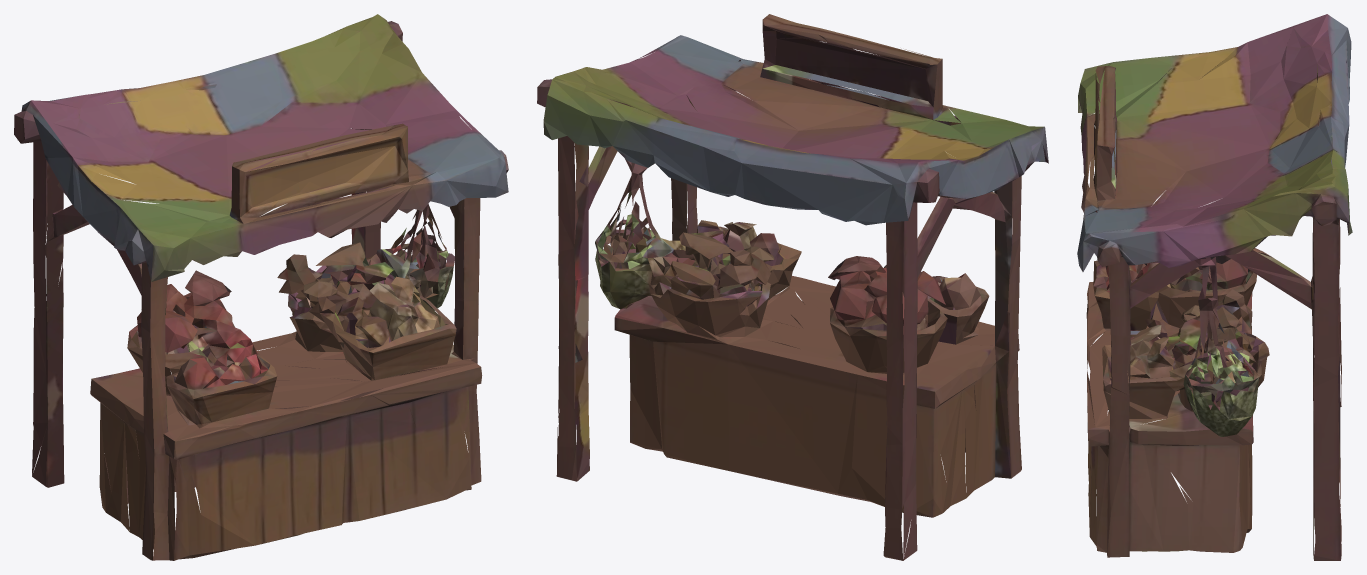
Rendered from stall_mushrooms.glb.
3 renders of one model, left to right at view 1: azimuth 30°, elevation 25°; view 2: azimuth 150°, elevation 25°; view 3: azimuth 270°, elevation 25°, orthographic. The views are drawn at different scales.
Visible parts, largest first — view 1: geometry_0; view 2: geometry_0; view 3: geometry_0.
Boxes of the visible parts, x1=… form: geometry_0: x1=14, y1=14, x2=508, y2=560; geometry_0: x1=537, y1=14, x2=1048, y2=560; geometry_0: x1=1077, y1=14, x2=1352, y2=560.
Bounding box in the file's own units: 2.1 × 2.05 × 1.33.
Materials: 1 (1 with a texture image).
